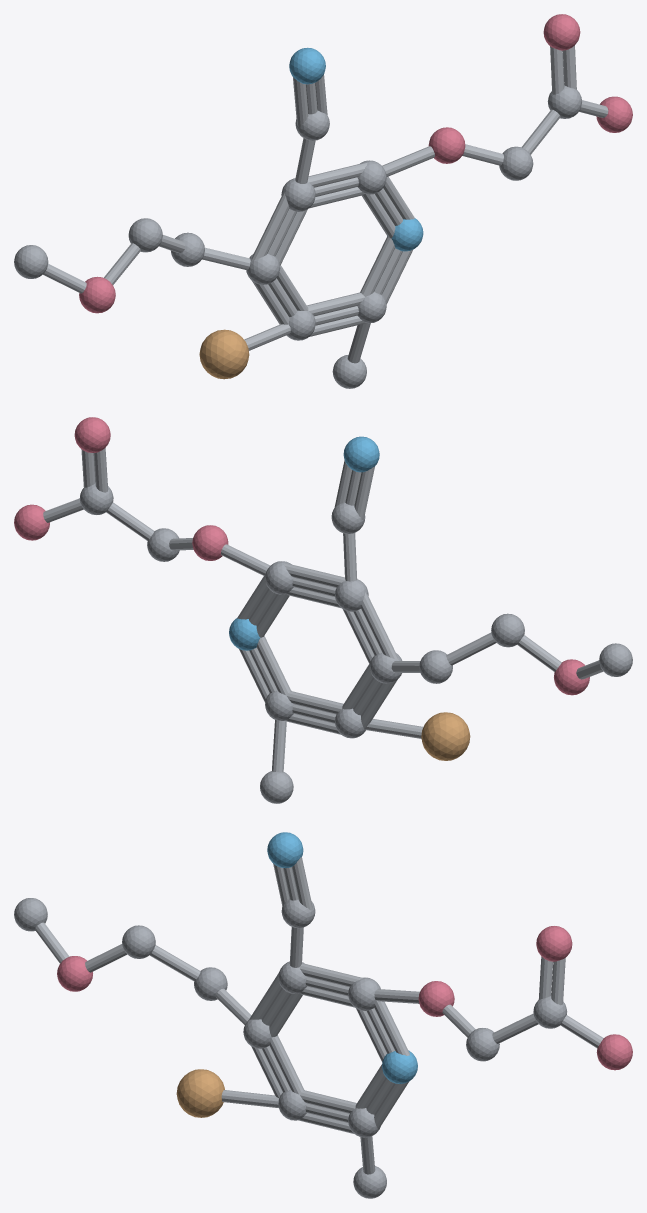
Rendered from molecule_23_labelled.glb.
3 renders of one model, top to bottom at view 1: azimuth 30°, elevation 25°; view 2: azimuth 150°, elevation 25°; view 3: azimuth 330°, elevation 25°, orthographic.
Parts seen in each view (by area): view 1: atom_17_Bromine, atom_9_Carbonyl_O, atom_12_Cyano_N, atom_6_Aryl_ether_O, atom_15_Ether_O, atom_10_Hydroxyl_O, atom_16_Methoxy_CH3, atom_14_CH2, atom_7_O–CH2, atom_18_Methyl_CH3, bond_2_2, atom_2_C3 (+23 smaller); view 2: atom_17_Bromine, atom_9_Carbonyl_O, atom_12_Cyano_N, atom_6_Aryl_ether_O, atom_10_Hydroxyl_O, atom_16_Methoxy_CH3, atom_14_CH2, atom_15_Ether_O, atom_18_Methyl_CH3, atom_13_Benzylic_CH2, bond_2_2, atom_2_C3 (+21 smaller); view 3: atom_17_Bromine, atom_9_Carbonyl_O, atom_10_Hydroxyl_O, atom_12_Cyano_N, atom_15_Ether_O, atom_6_Aryl_ether_O, atom_0_Pyridine_N, atom_14_CH2, atom_16_Methoxy_CH3, atom_7_O–CH2, atom_13_Benzylic_CH2, atom_18_Methyl_CH3 (+23 smaller).
Boxes of the visible parts, <box> form: atom_17_Bromine: <box>199,329,249,379</box>; atom_9_Carbonyl_O: <box>543,14,580,50</box>; atom_12_Cyano_N: <box>289,47,325,84</box>; atom_6_Aryl_ether_O: <box>428,127,465,163</box>; atom_15_Ether_O: <box>79,276,115,313</box>; atom_10_Hydroxyl_O: <box>596,96,632,132</box>; atom_16_Methoxy_CH3: <box>14,245,48,278</box>; atom_14_CH2: <box>128,218,162,252</box>; atom_7_O–CH2: <box>499,146,533,180</box>; atom_18_Methyl_CH3: <box>332,355,366,388</box>; bond_2_2: <box>251,192,289,261</box>; atom_2_C3: <box>281,178,315,211</box>; atom_17_Bromine: <box>421,712,470,760</box>; atom_9_Carbonyl_O: <box>74,417,110,452</box>; atom_12_Cyano_N: <box>343,436,379,472</box>; atom_6_Aryl_ether_O: <box>192,525,228,560</box>; atom_10_Hydroxyl_O: <box>14,504,49,540</box>; atom_16_Methoxy_CH3: <box>599,643,632,676</box>; atom_14_CH2: <box>491,613,524,647</box>; atom_15_Ether_O: <box>554,659,589,695</box>; atom_18_Methyl_CH3: <box>260,771,293,803</box>; atom_13_Benzylic_CH2: <box>419,650,452,683</box>; bond_2_2: <box>361,592,398,660</box>; atom_2_C3: <box>335,579,368,611</box>; atom_17_Bromine: <box>176,1069,224,1117</box>; atom_9_Carbonyl_O: <box>536,926,572,961</box>; atom_10_Hydroxyl_O: <box>596,1034,632,1070</box>; atom_12_Cyano_N: <box>267,832,303,868</box>; atom_15_Ether_O: <box>57,956,92,991</box>; atom_6_Aryl_ether_O: <box>418,981,454,1016</box>; atom_0_Pyridine_N: <box>382,1050,417,1083</box>; atom_14_CH2: <box>122,925,155,958</box>; atom_16_Methoxy_CH3: <box>14,898,47,931</box>; atom_7_O–CH2: <box>466,1028,499,1061</box>; atom_13_Benzylic_CH2: <box>194,967,227,1000</box>; atom_18_Methyl_CH3: <box>353,1166,386,1198</box>.
Bounding box in the file's own units: 12.04 × 6.87 × 1.49.
